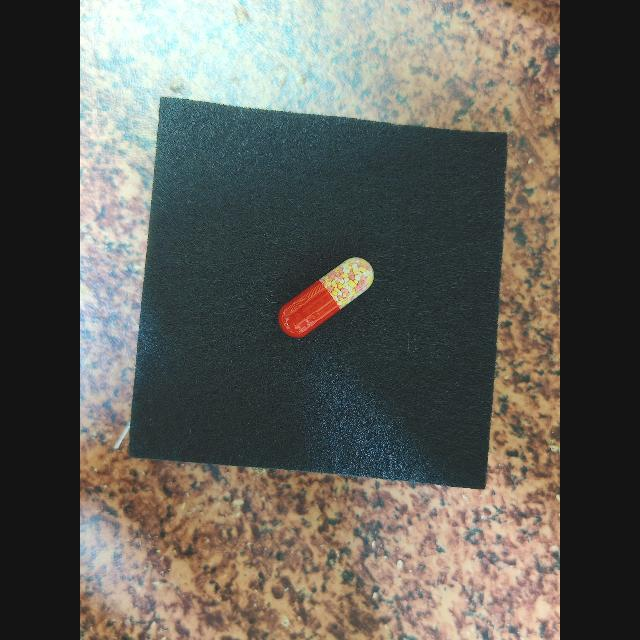Intact Capsule: (278, 257, 374, 338)
